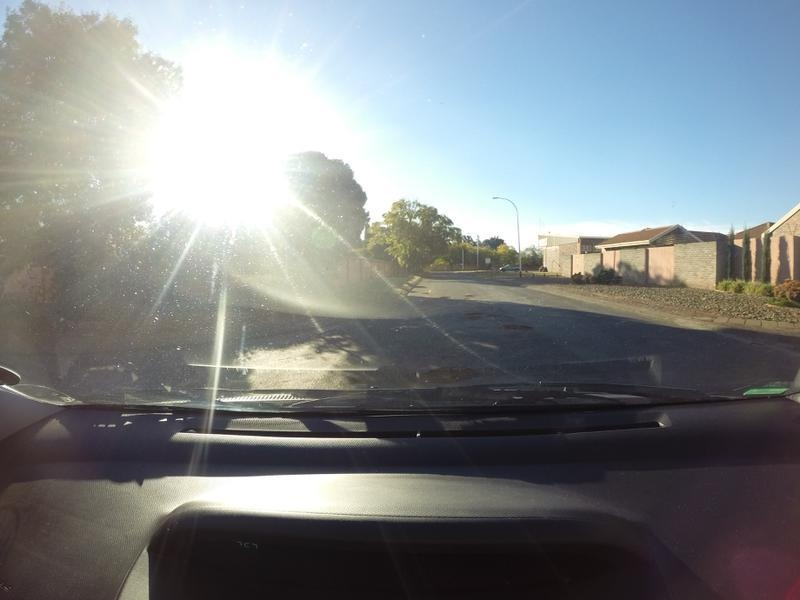pothole: (409, 362, 474, 384), (504, 321, 532, 330), (466, 309, 494, 318), (465, 290, 476, 300), (422, 289, 435, 296)
